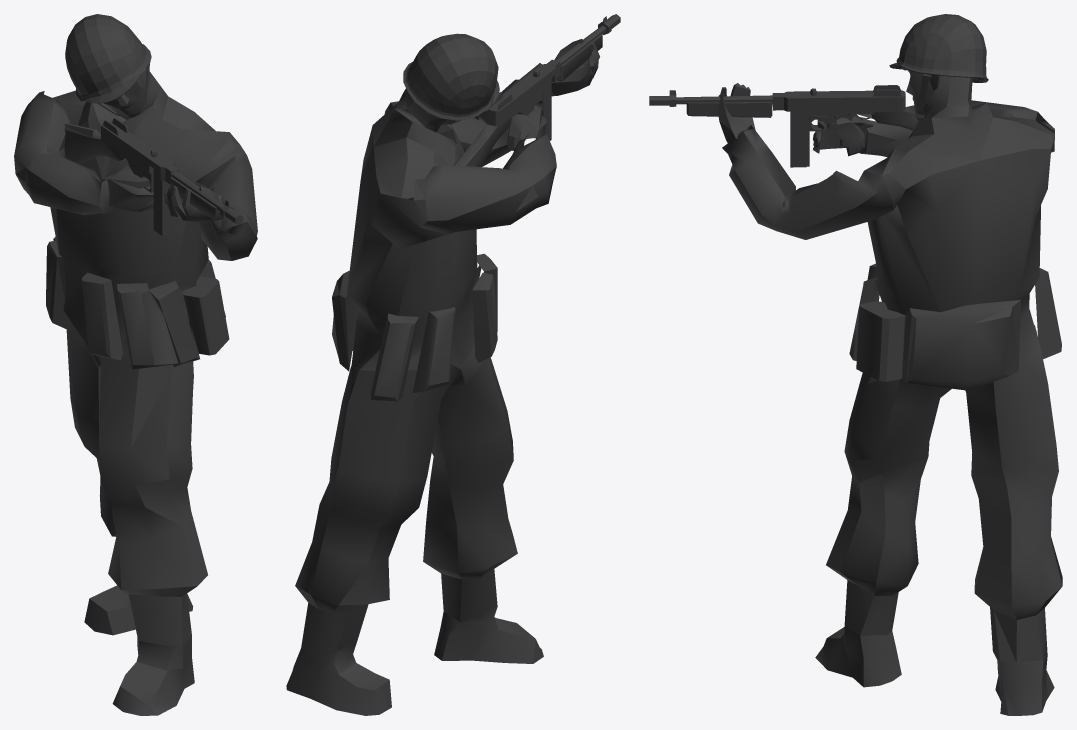
The model's file is us_mitra_piedi.glb.
The picture shows the model from 3 angles, left to right: view 1: azimuth 30°, elevation 25°; view 2: azimuth 150°, elevation 25°; view 3: azimuth 270°, elevation 25°; orthographic projection.
Visible parts, largest first — view 1: Object.004_Object.017_2; view 2: Object.004_Object.017_2; view 3: Object.004_Object.017_2.
Boxes of the visible parts, box(x1,y1,x2,y2) form: Object.004_Object.017_2: box(14, 14, 257, 715); Object.004_Object.017_2: box(286, 14, 620, 715); Object.004_Object.017_2: box(649, 14, 1062, 715).
Size of the model in its own units: 0.1678 by 0.5046 by 0.2929.
Materials: 1 (1 with a texture image).
